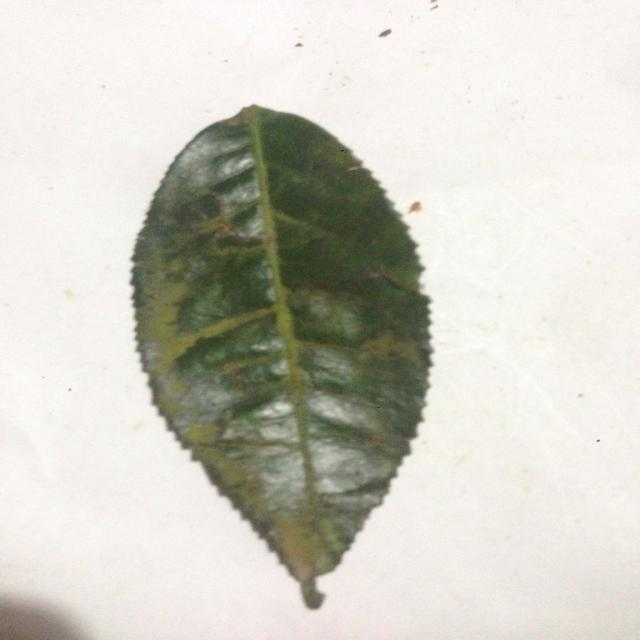Red Leaf Spot: (129, 105, 456, 603)
